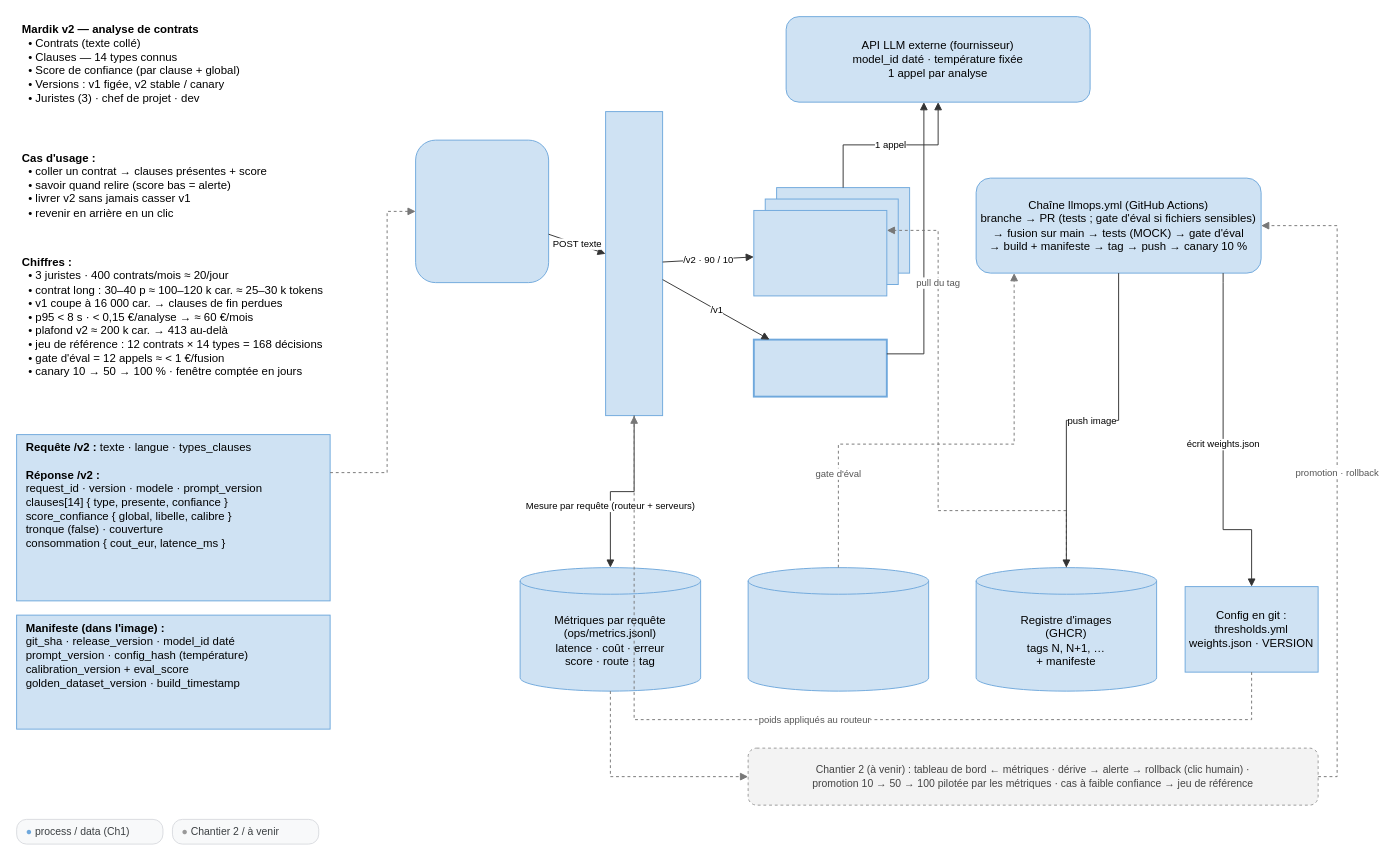
Image size: 1396x861. Some labels were removed from this diagram. Each missing label, with the centre of its shape:
"Jeu de référence (attendus.jsonl) 12 contrats · 14 types seuil 0,75 / 0,8" belongs at [838,629].
"Outil documentaire des juristes client_v1 (intact) frontend v2" belongs at [482,211].
"Routeur (LB) /v1 → v1 /v2 → poids" belongs at [634,263].
"v1 webserver — FIGÉ (jamais redéployé)" belongs at [819,367].
"v2 webserver (stable tag N · canary tag N+1)" belongs at [820,252].
